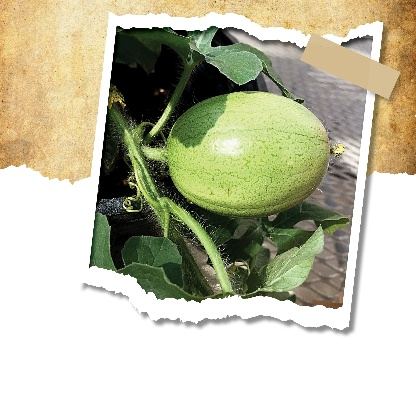duahau: (154, 72, 332, 225)
